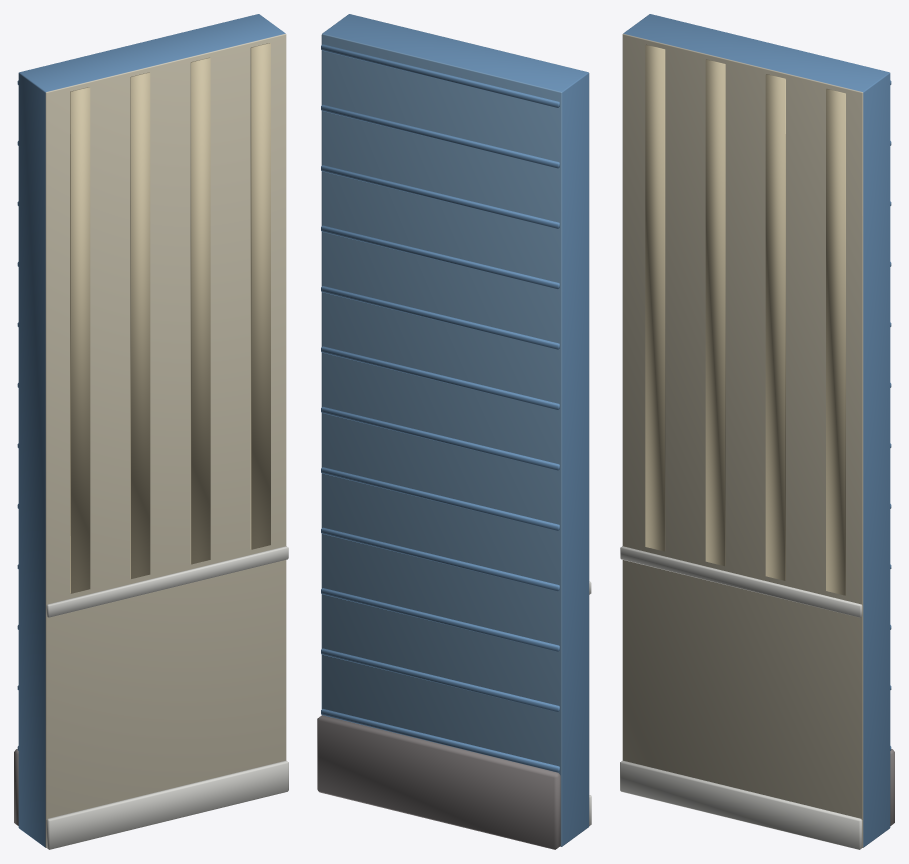
File: wall_half_blue.glb
The picture shows the model from 3 angles, left to right: view 1: azimuth 30°, elevation 25°; view 2: azimuth 150°, elevation 25°; view 3: azimuth 330°, elevation 25°; orthographic projection.
Parts seen in each view (by area): view 1: wall_half_blue; view 2: wall_half_blue; view 3: wall_half_blue.
Part boxes in pixels (x1=…): wall_half_blue: x1=14, y1=14, x2=288, y2=849; wall_half_blue: x1=317, y1=14, x2=591, y2=849; wall_half_blue: x1=620, y1=14, x2=894, y2=849.
Bounding box in the file's own units: 1 × 3 × 0.26.
